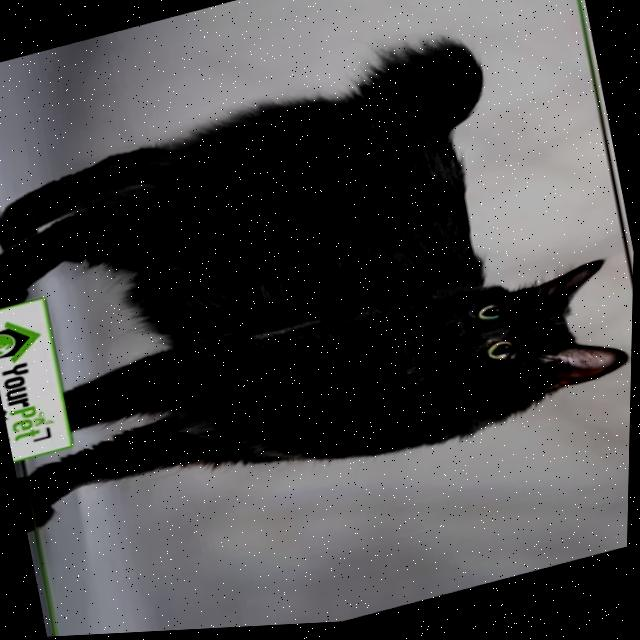American Bobtail: (0, 0, 640, 553)
